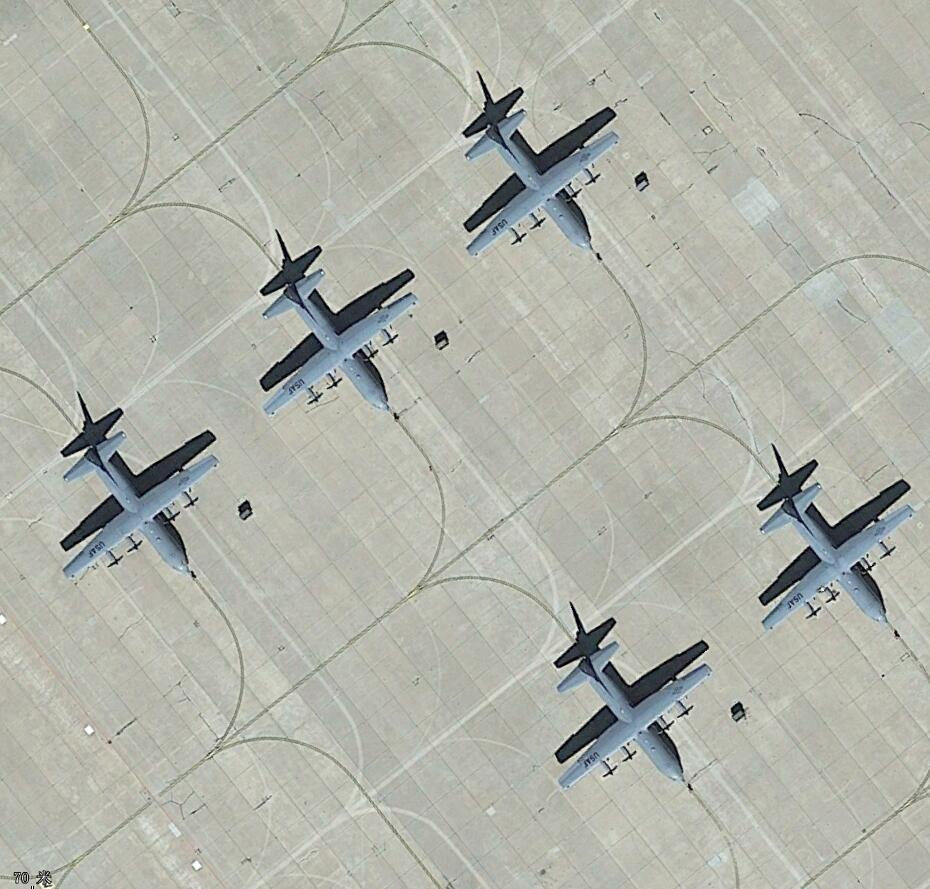A2: (454, 103, 633, 261), (545, 636, 715, 798), (56, 420, 222, 584), (254, 259, 422, 419), (743, 476, 913, 633)
